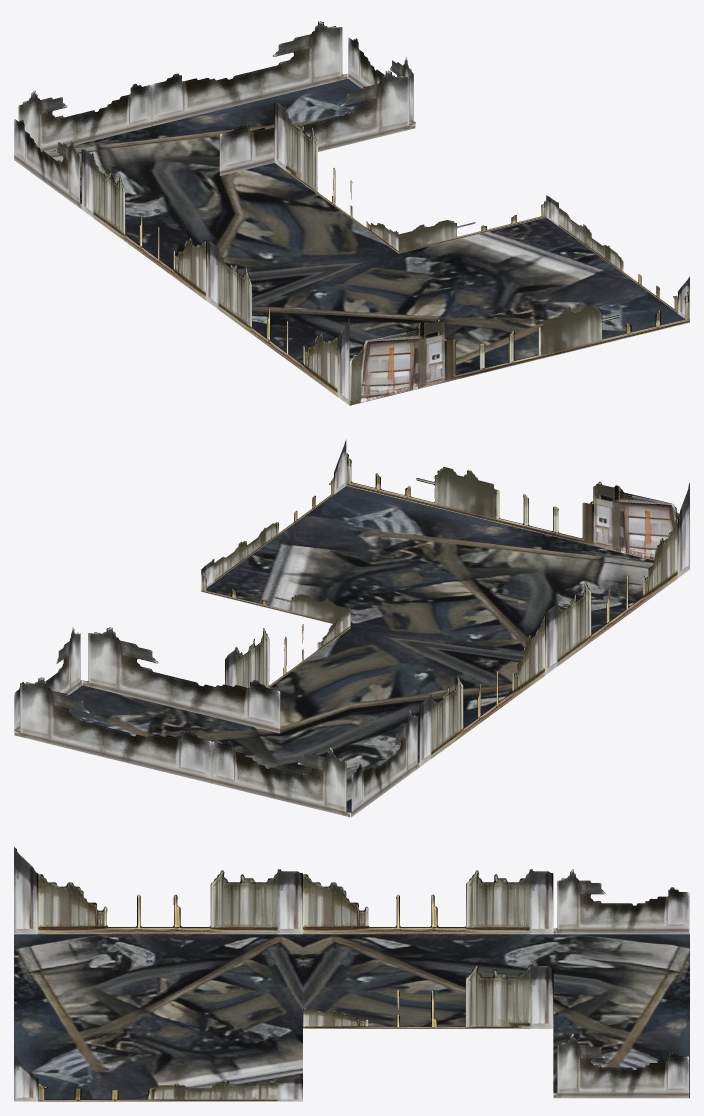
Rendered from s_hq_dam_hdtex.glb.
3 views of the same model, one above another, from view 1: azimuth 30°, elevation 25°; view 2: azimuth 150°, elevation 25°; view 3: azimuth 270°, elevation 25° (orthographic).
Visible parts, largest first — view 1: S_SensorControlDAM; view 2: S_SensorControlDAM; view 3: S_SensorControlDAM.
Part boxes in pixels (x1,y1,x2,y2): S_SensorControlDAM: (14, 21, 689, 405); S_SensorControlDAM: (14, 439, 689, 817); S_SensorControlDAM: (14, 847, 689, 1101).
Size of the model in its own units: 17.48 by 4.27 by 29.83.
2 materials, 2 textured.
